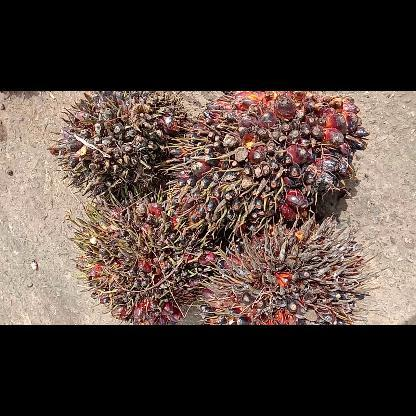TBS abnormal: (180, 91, 372, 219), (78, 194, 220, 324), (208, 223, 372, 324), (54, 92, 186, 194)
